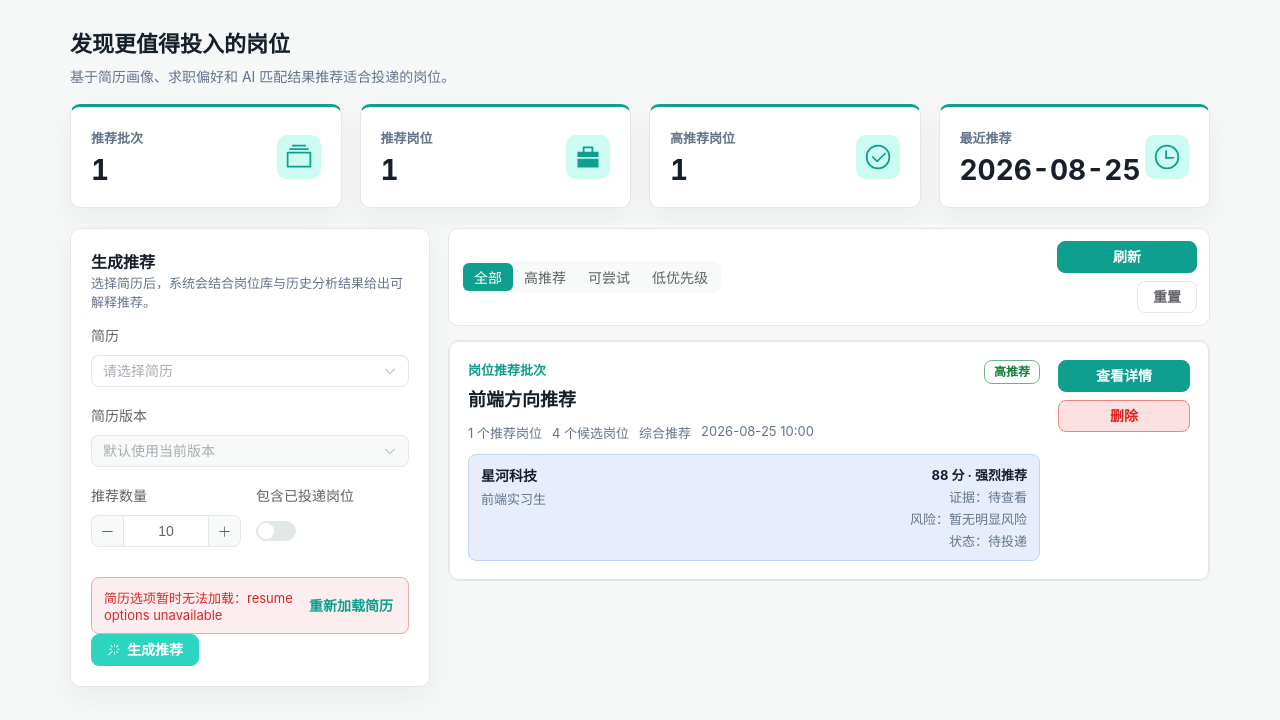
it: job recommendation list redesign › recovers the generator independently after retrying failed resume options
Click the button "重新加载简历".
click(351, 606)  # box left=306, top=596, right=396, bottom=616
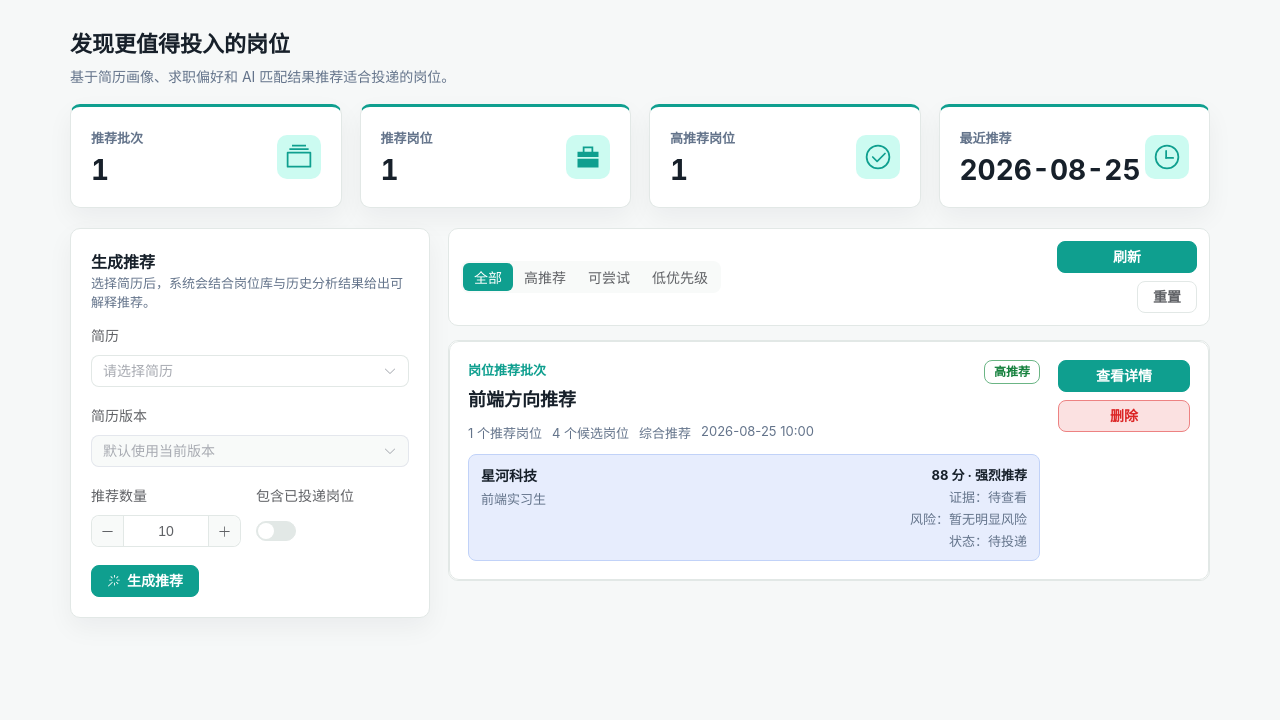
Expected: the text "前端方向推荐" is shown, left=468, top=385, right=576, bottom=411
Expected: the button "生成推荐" is enabled, left=91, top=565, right=199, bottom=597
